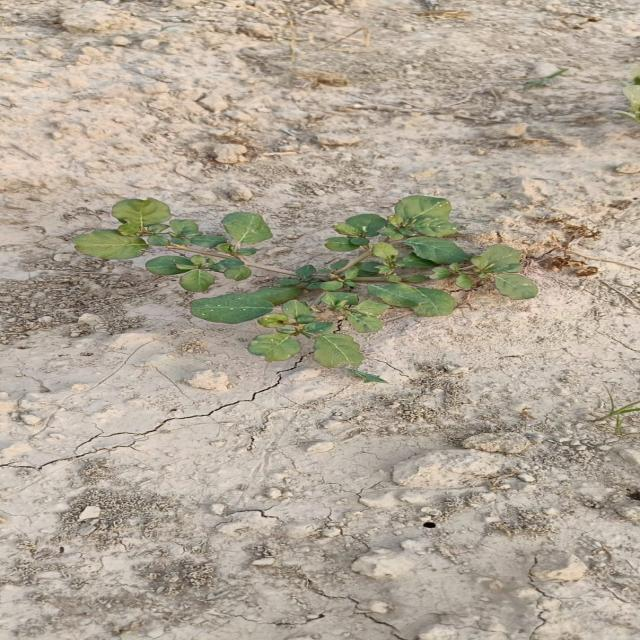plant: (73, 196, 539, 382)
